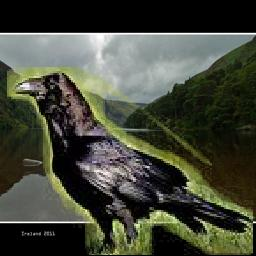Crow: (7, 67, 253, 255)
